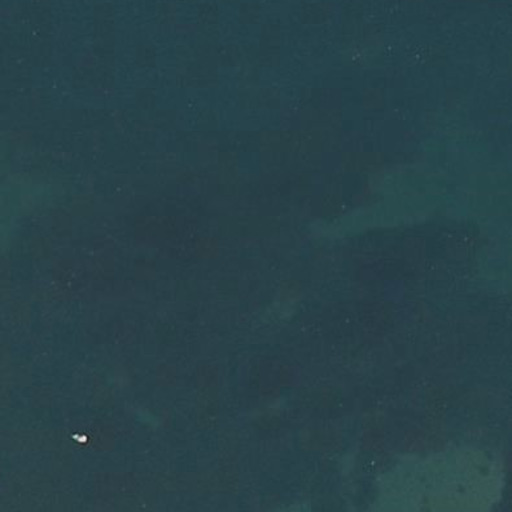ship: (66, 430, 91, 448)
